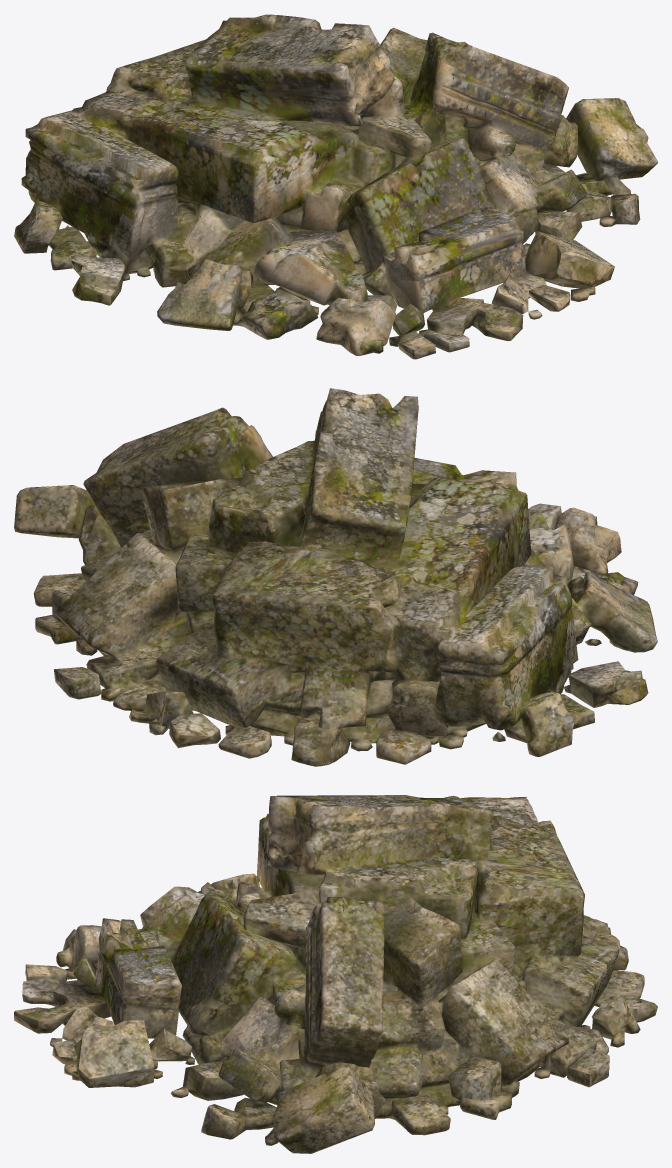
File: ARQ_EscombrosMaya_01_LOD0.fbx
3 views of the same model, one above another, from view 1: azimuth 30°, elevation 25°; view 2: azimuth 150°, elevation 25°; view 3: azimuth 270°, elevation 25° (orthographic). The views are drawn at different scales.
Parts seen in each view (by area): view 1: ARQ_EscombrosMaya_01_Mesh000; view 2: ARQ_EscombrosMaya_01_Mesh000; view 3: ARQ_EscombrosMaya_01_Mesh000.
Part boxes in pixels (x1=…): ARQ_EscombrosMaya_01_Mesh000: x1=14, y1=14, x2=657, y2=359; ARQ_EscombrosMaya_01_Mesh000: x1=14, y1=388, x2=657, y2=766; ARQ_EscombrosMaya_01_Mesh000: x1=14, y1=795, x2=657, y2=1153.
Size of the model in its own units: 2.5 by 0.8855 by 2.37.
